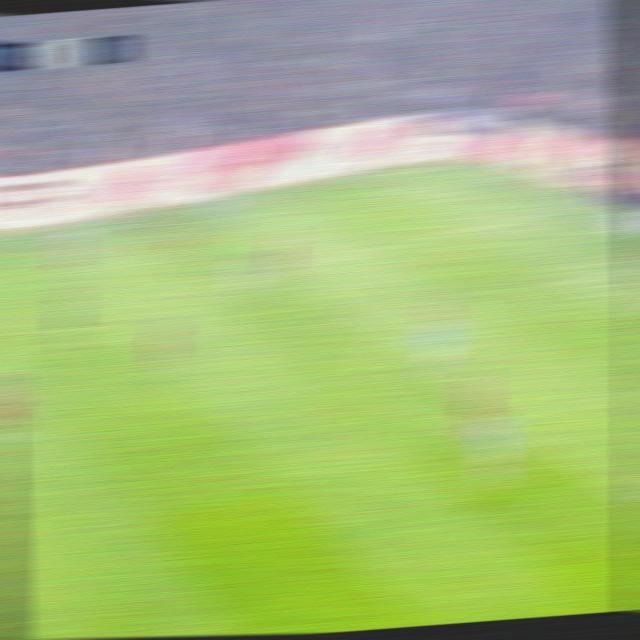bigarea_top_inner: (271, 257, 305, 280)
bigarea_top_outter: (530, 202, 564, 222)
bottom_arc_area_intersection: (524, 425, 561, 453)
corner: (414, 156, 451, 175)
smallarea_top_inner: (549, 267, 587, 295)
top_arc_area_intersection: (369, 320, 407, 349)
